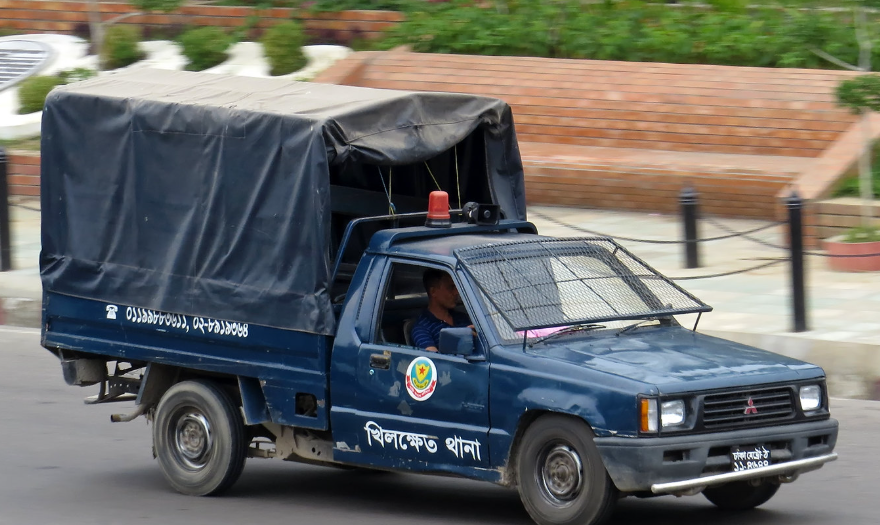Police cars: (34, 58, 844, 525)
